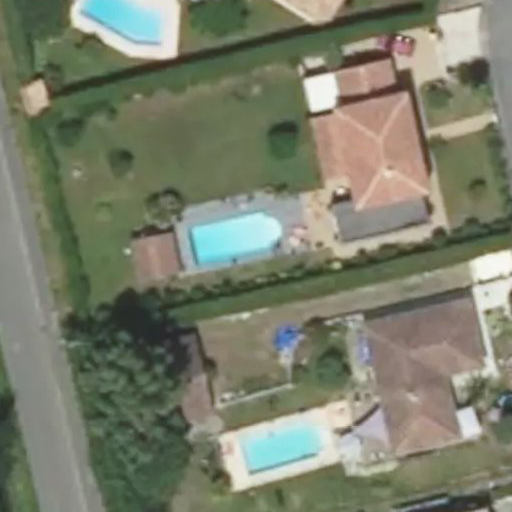pool: (210, 232, 305, 248)
